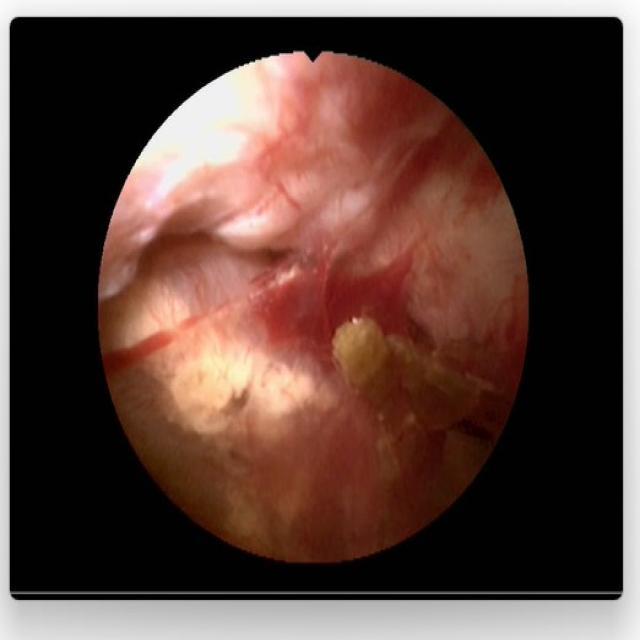stone: (392, 340, 495, 401), (336, 324, 390, 390)
tissue: (105, 76, 518, 544)
